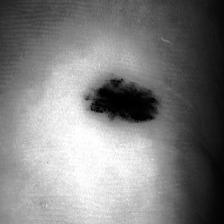Benign Marking or Mole: (84, 74, 161, 125)
